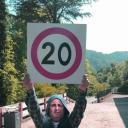speed_limit_20: (31, 27, 83, 80)
